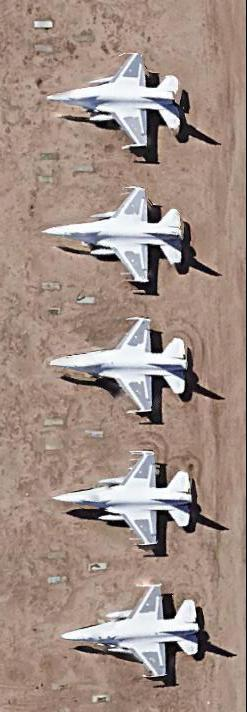F-16: (54, 448, 206, 549), (45, 48, 186, 151), (48, 318, 198, 414), (43, 189, 194, 281), (63, 590, 209, 678)
